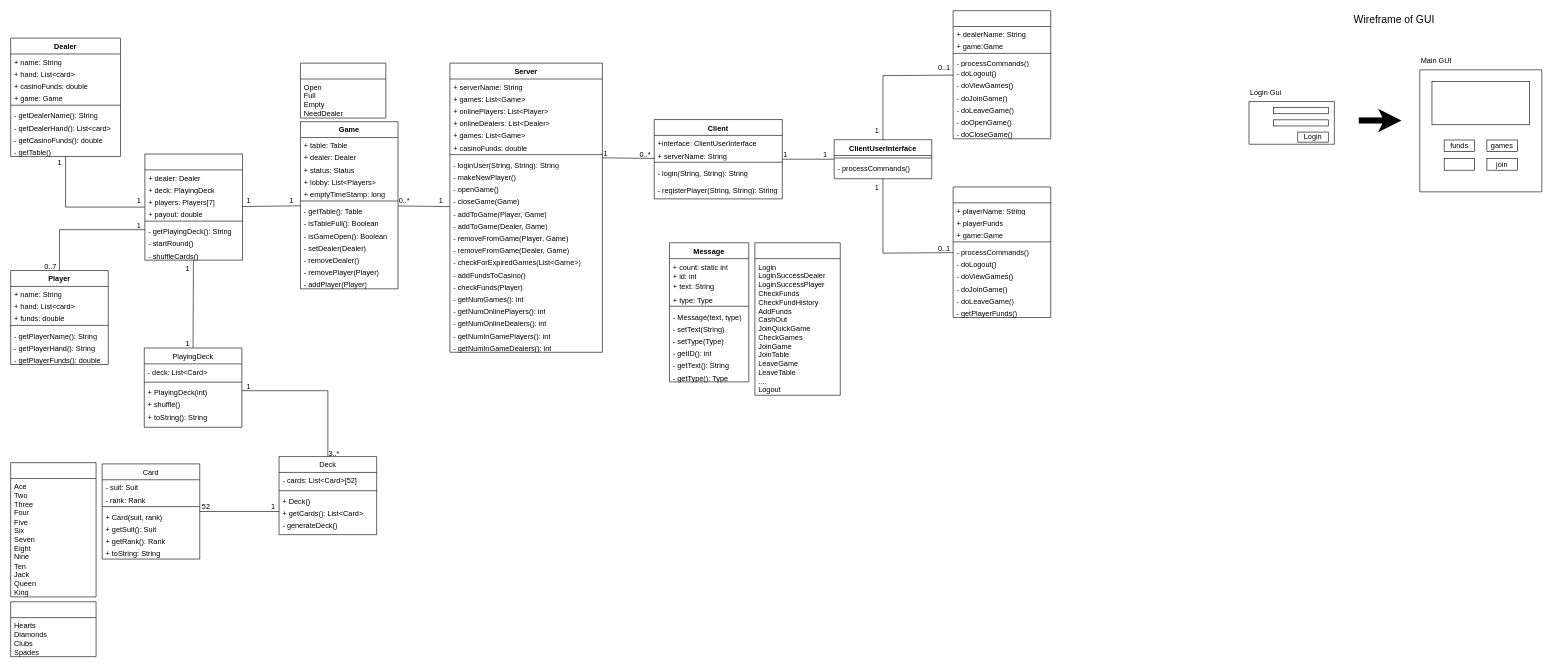
This 1552x669 diagram has some shape labels left out. Each missing label, with the box of its shape:
DealerUI: (953, 10, 1051, 139)
PlayerUI: (953, 186, 1051, 318)
Table: (144, 153, 242, 260)
«enum» Rank: (10, 462, 96, 597)
«enum» Status: (300, 63, 386, 118)
«enum» Suit: (10, 601, 96, 657)
«enum» Type: (754, 242, 840, 395)
